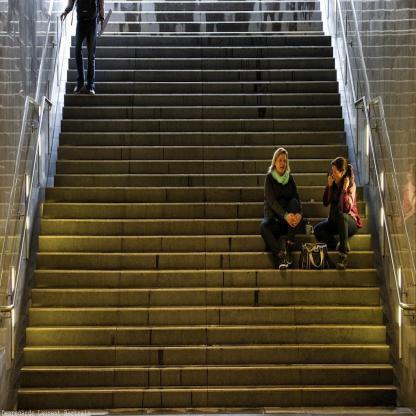bag: (300, 241, 331, 271)
person: (254, 145, 309, 273), (316, 154, 364, 274)
stair: (28, 13, 397, 416)
